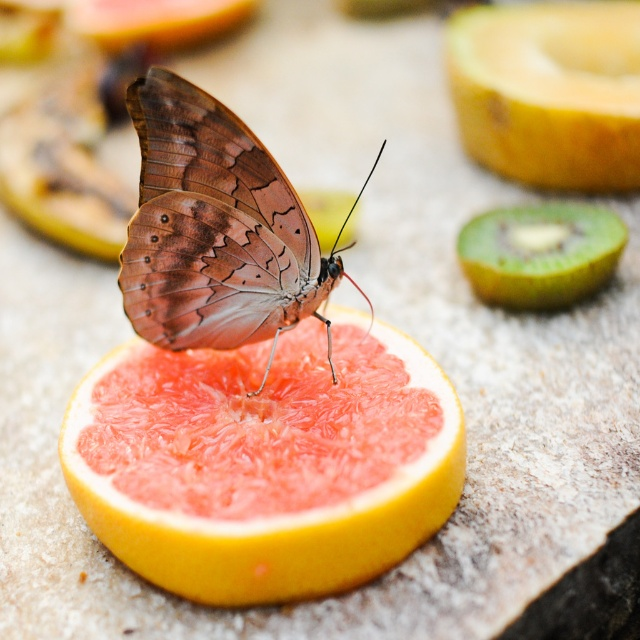Butterfly: (115, 61, 377, 409)
